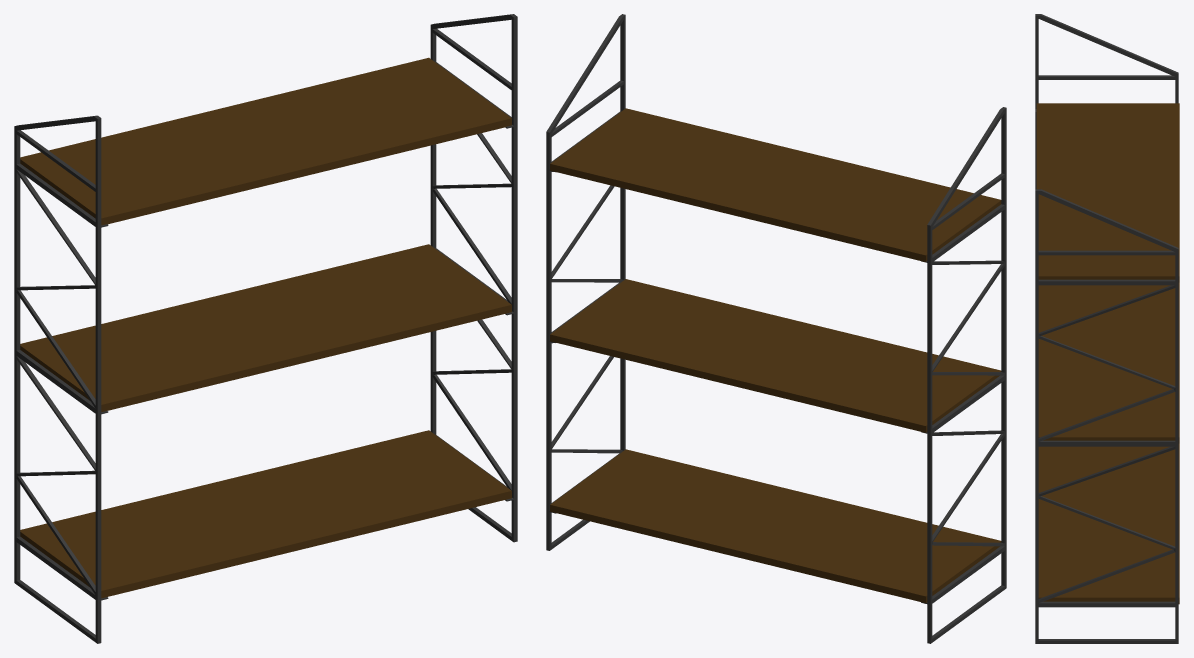
The model's file is regal2_mesh.fbx.
The picture shows the model from 3 angles, left to right: view 1: azimuth 30°, elevation 25°; view 2: azimuth 150°, elevation 25°; view 3: azimuth 270°, elevation 25°; orthographic projection. The views are drawn at different scales.
Parts seen in each view (by area): view 1: Gestell; view 2: Gestell; view 3: Gestell.
Part boxes in pixels (x1,y1,x2,y2): Gestell: (14,14,517,643); Gestell: (546,14,1006,643); Gestell: (1035,14,1179,643).
Size of the model in its own units: 199 by 238 by 68.65.
